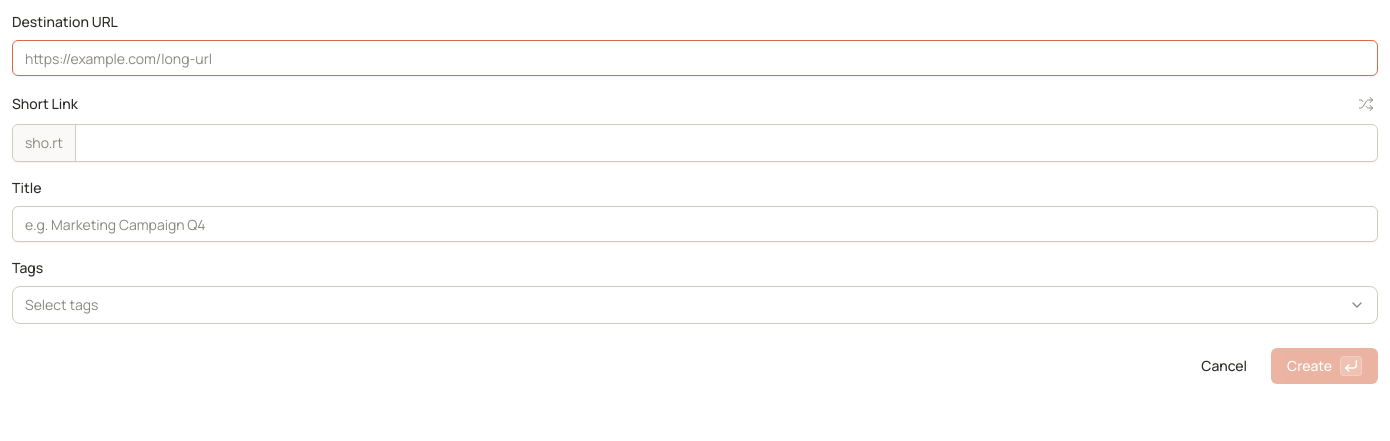
Test: LinkFormFields › tracker cleaning › suggests removing detected trackers and cleans the URL on request
Type "https://example.com/page?utm_source=news" into the field labelled "Destination URL".
click(695, 58); type("https://example.com/page?utm_source=news")  # box [12,40,1378,76]
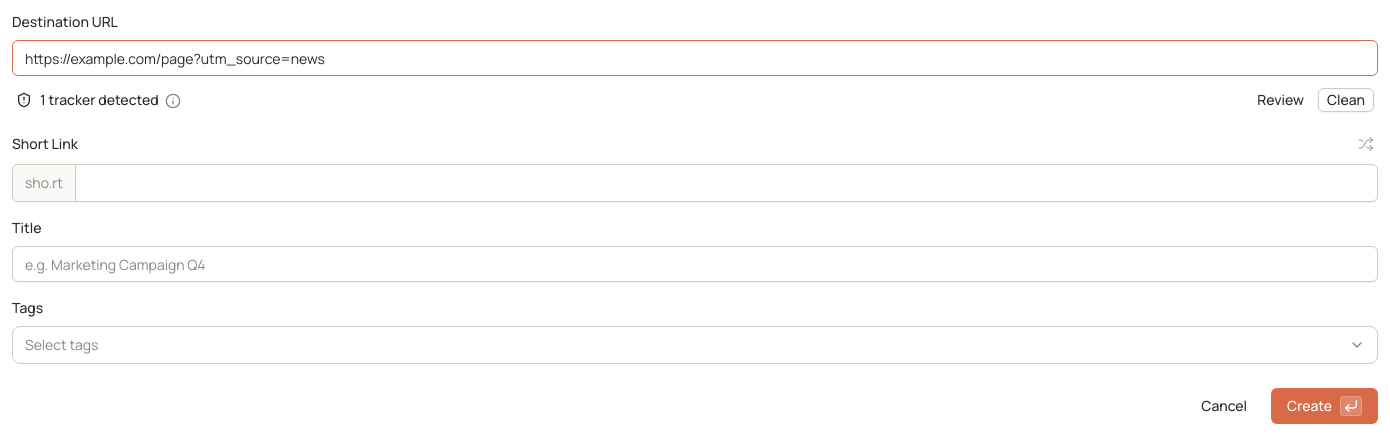
Click the button with aria-label "Clean trackers from URL".
click(1346, 100)  # box [1318,88,1374,112]
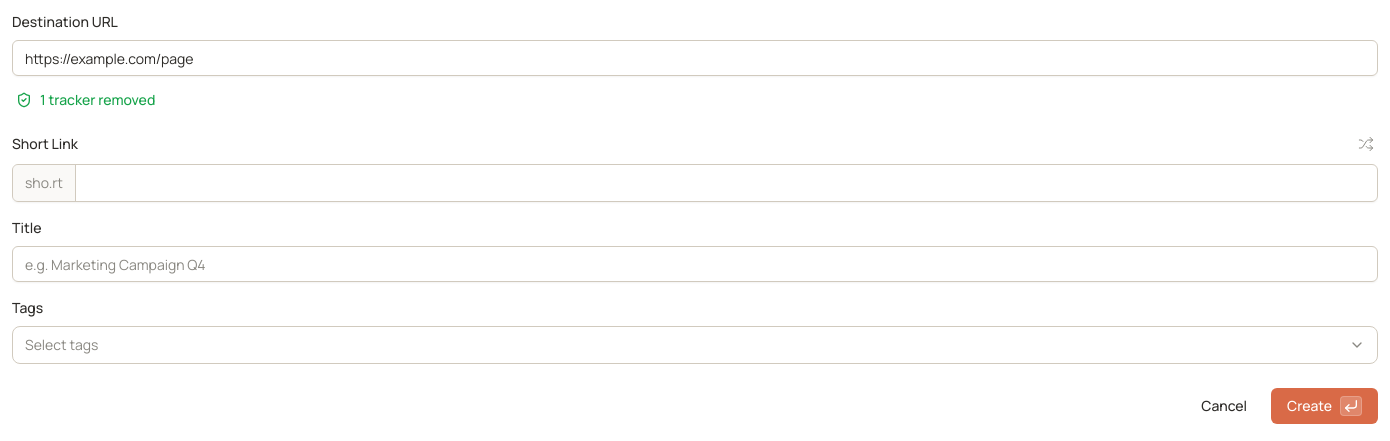
Result: the field labelled "Destination URL" holds "https://example.com/page" at [12,40,1378,76]
Result: the text "1 tracker removed" is shown at [40,93,155,107]
